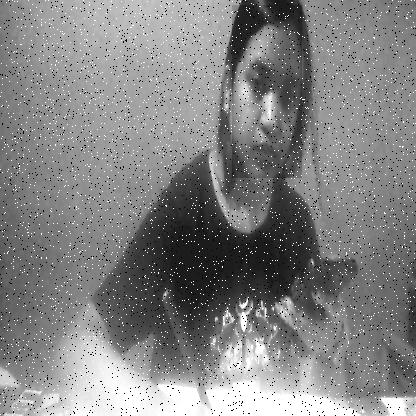Normal: (232, 5, 302, 178)
